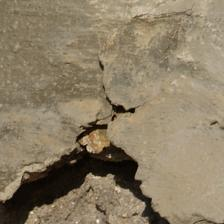Crack: (76, 0, 199, 148), (138, 35, 204, 139), (2, 60, 104, 116)
